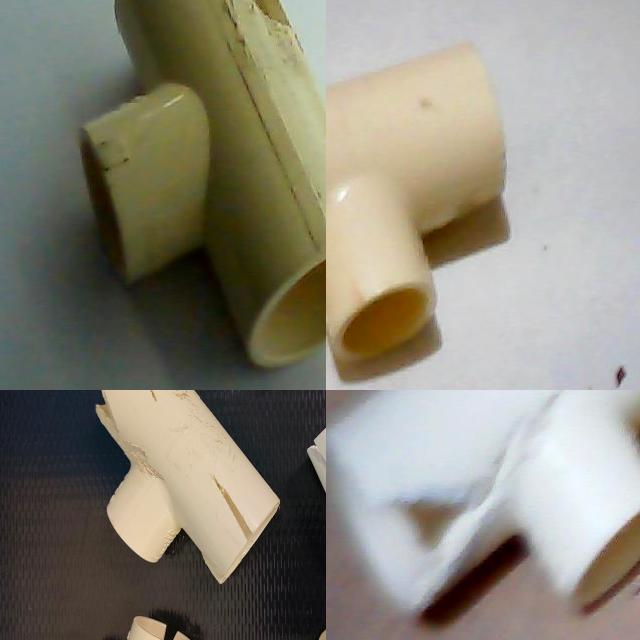Defective: (371, 454, 476, 598), (190, 0, 294, 28), (0, 549, 54, 601), (256, 526, 296, 595), (142, 606, 168, 640), (184, 596, 203, 627)
L Joint: (0, 499, 202, 640), (80, 390, 197, 453)
T Joint: (81, 0, 326, 372), (326, 390, 640, 619), (326, 44, 507, 385), (227, 487, 326, 640)
